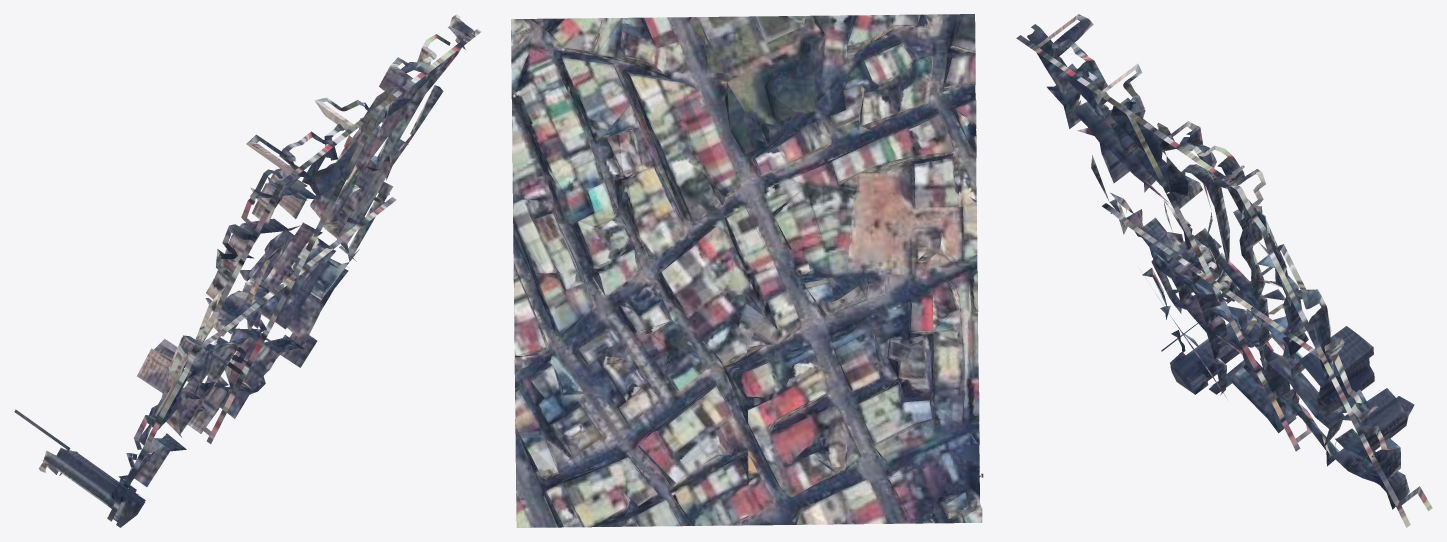
The picture shows the model from 3 angles, left to right: view 1: azimuth 30°, elevation 25°; view 2: azimuth 150°, elevation 25°; view 3: azimuth 270°, elevation 25°; orthographic projection. The views are drawn at different scales.
Bounding box in the file's own units: 343 × 296 × 273.
Materials: 1 (1 with a texture image).
